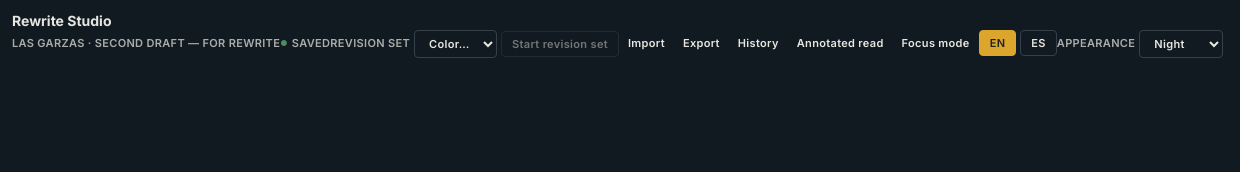
Test: professional top toolbar › the revision dropdown does not imply an active set before one starts
The image size is (1240, 172).
Expected: the button with test id "rev-start" is disabled, left=501, top=30, right=619, bottom=56
Select "Blue" in the dropdown labelled "Revision set" at (456, 44), box left=414, top=30, right=497, bottom=58
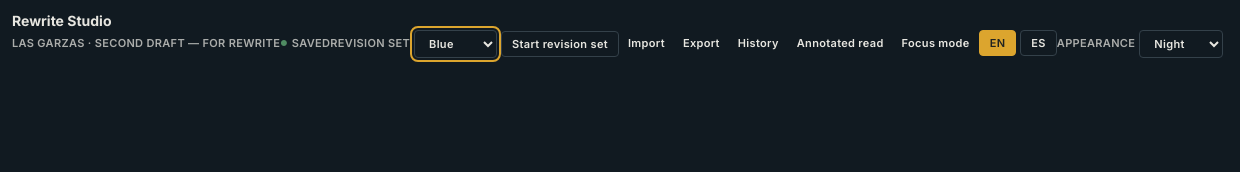
Now the button with test id "rev-start" is enabled, box left=501, top=30, right=619, bottom=56
